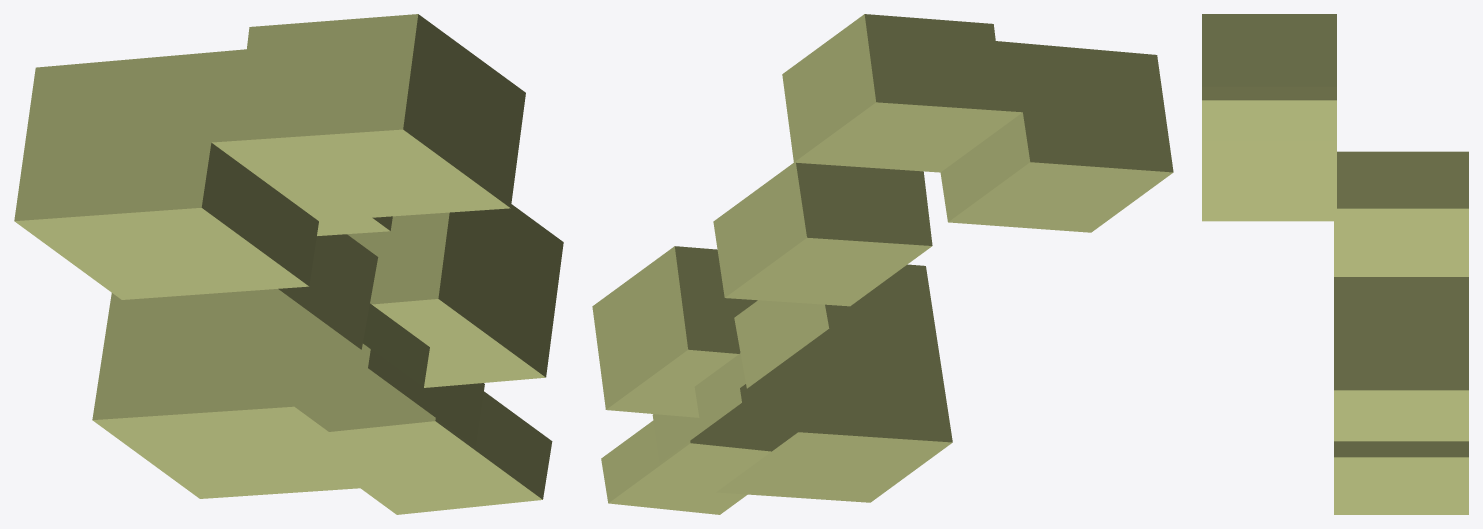
3 views of the same model, side by side, from view 1: azimuth 30°, elevation 25°; view 2: azimuth 150°, elevation 25°; view 3: azimuth 270°, elevation 25° (orthographic). The views are drawn at different scales.
Parts seen in each view (by area): view 1: 0_0_1_2_0_0_1_3_0_0; view 2: 0_0_1_2_0_0_1_3_0_0; view 3: 0_0_1_2_0_0_1_3_0_0.
Boxes of the visible parts, x1=… form: 0_0_1_2_0_0_1_3_0_0: x1=14, y1=14, x2=563, y2=514; 0_0_1_2_0_0_1_3_0_0: x1=592, y1=14, x2=1173, y2=514; 0_0_1_2_0_0_1_3_0_0: x1=1202, y1=14, x2=1468, y2=514.
Bounding box in the file's own units: 26.4 × 25.53 × 17.8.
